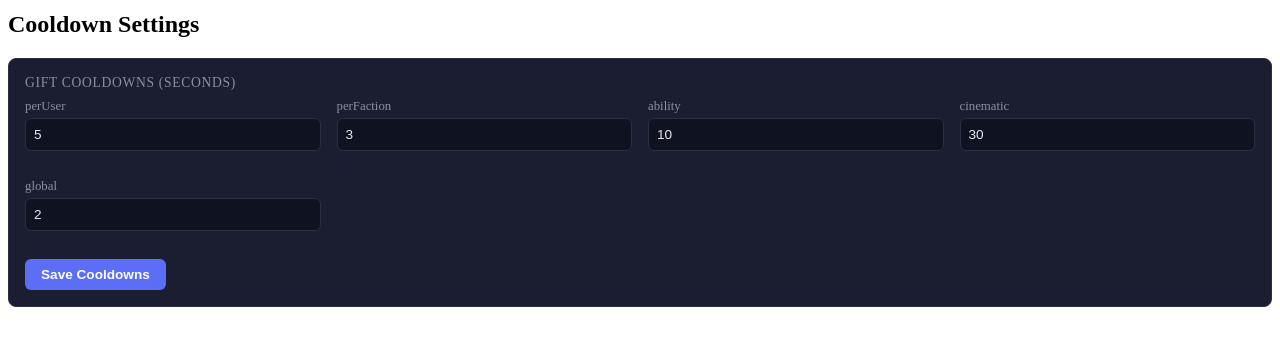
Test: Cooldown › validates and submits cooldowns
Click the button with test id "save-cooldown-btn".
click(95, 274)  # box [25,259,166,290]
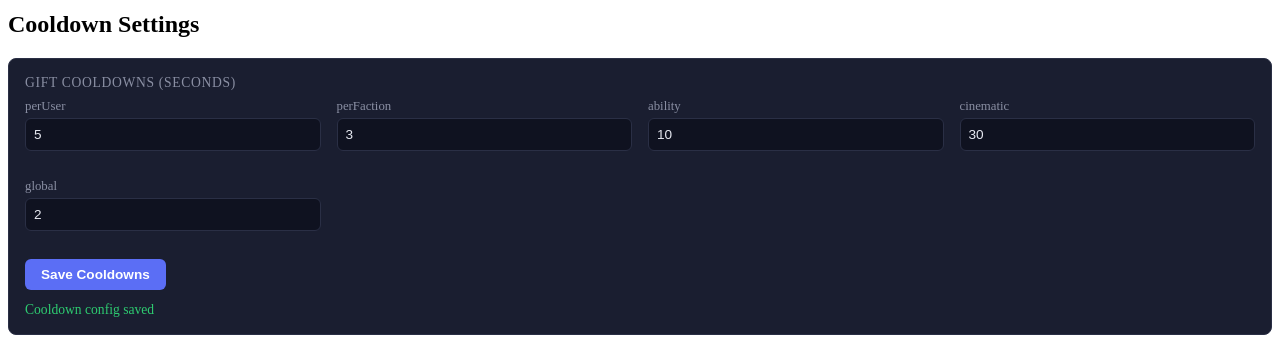
Expected: the text "Cooldown config saved" is shown, [25,302,154,317]
